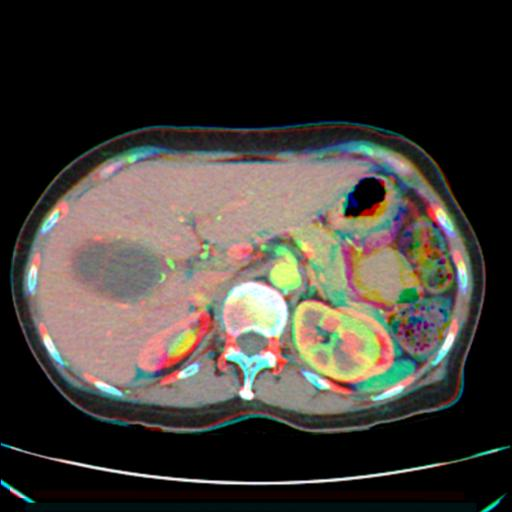Abscess: (71, 241, 160, 301)
